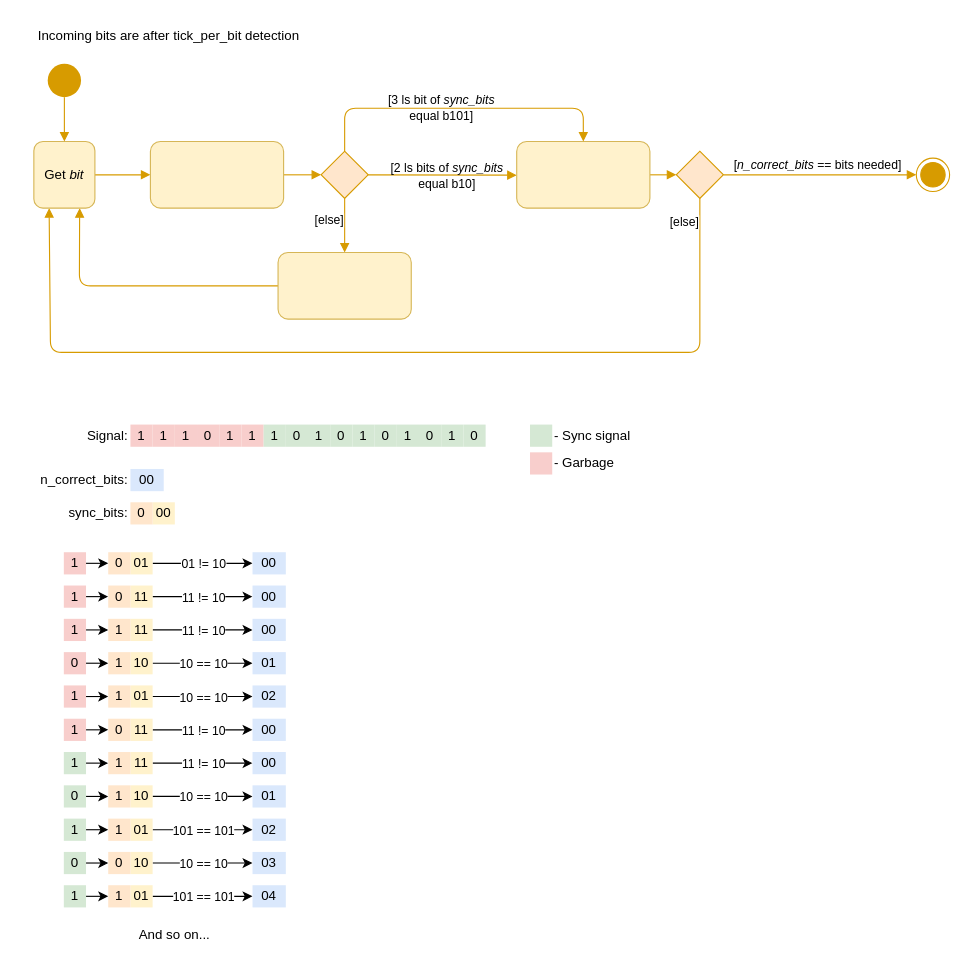
The diagram is 969 pixels wide and 970 high, and some of its shapes have lost their labels. The centre of each missing label's shape, as x and y in pixels:
Increment n_correct_bits: the point at 583,174
n_correct_bits = 0: the point at 344,285
Push bit to sync_bits: the point at 216,174
